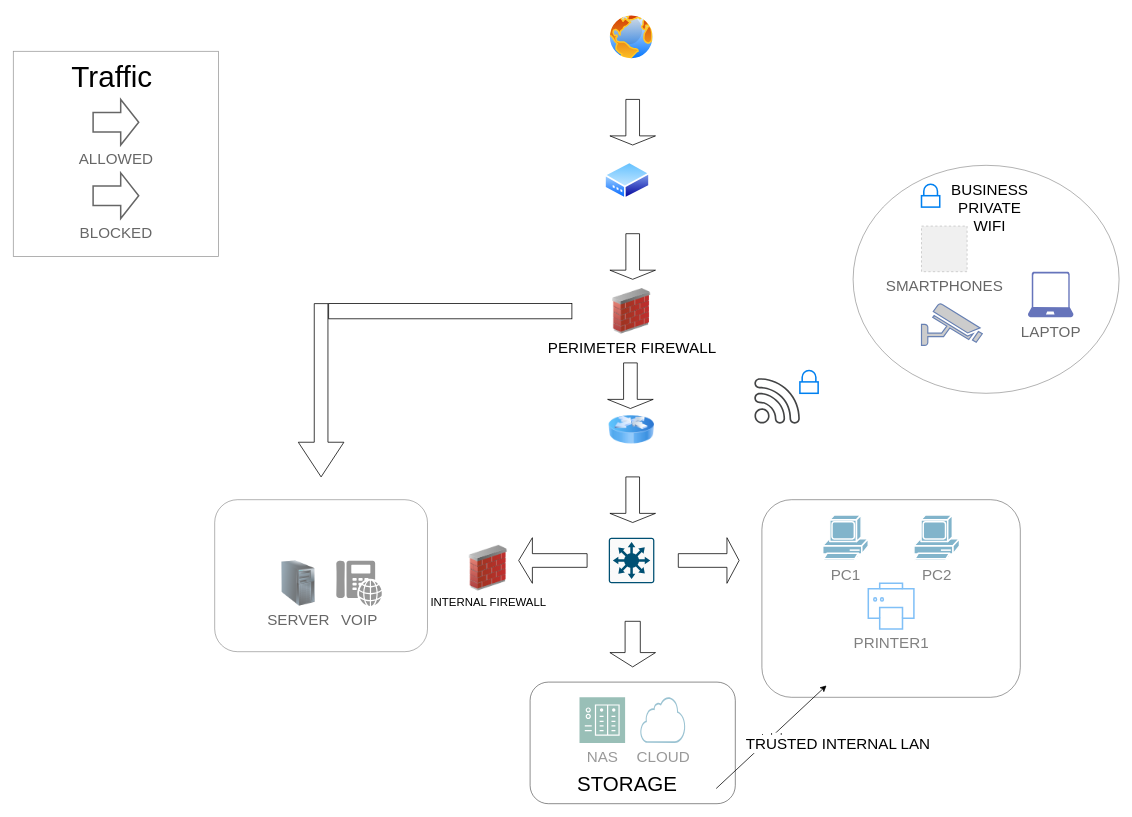
The diagram is 1132 pixels wide and 817 high, and some of its shapes have lost their labels. Grey dashed boxes stand in for pictures. The centre of each missing label's shape, as x and y in pixels:
BUSINESS GUEST WIFI: the point at 777,400
DMZ: the point at 321,575
INTERNET: the point at 631,37
LAN: the point at 890,598
MODEM: the point at 627,180
ROUTER/WIFI: the point at 631,429
SECURITY CAMS: the point at 951,324
SWTCH: the point at 631,560
